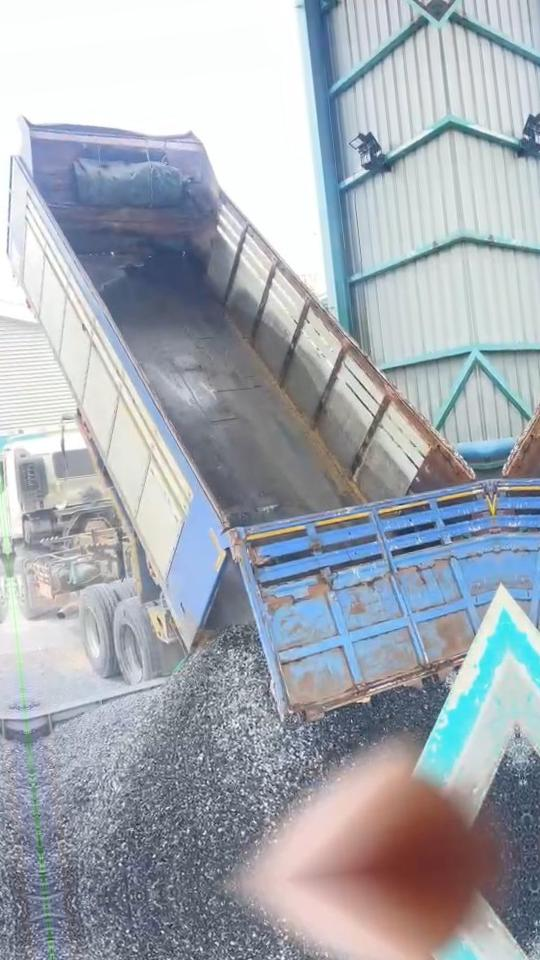gravel: (32, 628, 445, 905), (489, 753, 530, 855)
